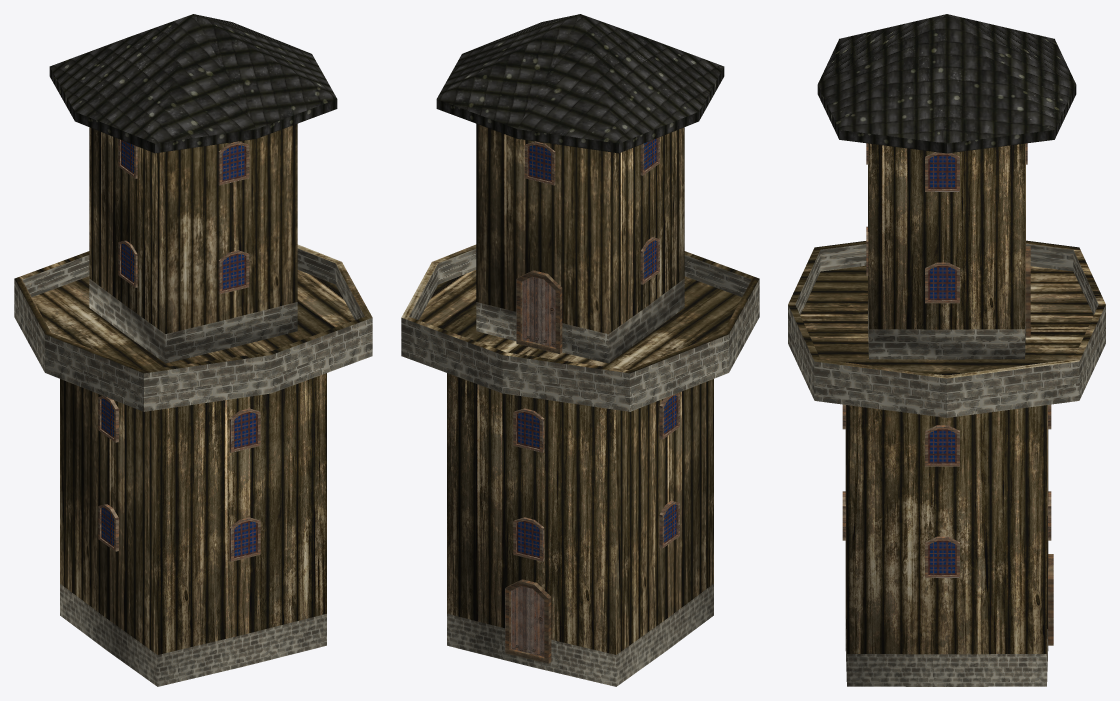
Rendered from tower.glb.
The picture shows the model from 3 angles, left to right: view 1: azimuth 30°, elevation 25°; view 2: azimuth 150°, elevation 25°; view 3: azimuth 270°, elevation 25°; orthographic projection. The views are drawn at different scales.
Visible parts, largest first — view 1: Tower; view 2: Tower; view 3: Tower.
Part boxes in pixels (left/top/right/bottom): Tower: left=14, top=14, right=372, bottom=686; Tower: left=401, top=14, right=759, bottom=686; Tower: left=788, top=14, right=1105, bottom=686.
Bounding box in the file's own units: 7.61 × 15.08 × 6.89.
Materials: 3 (3 with a texture image).
